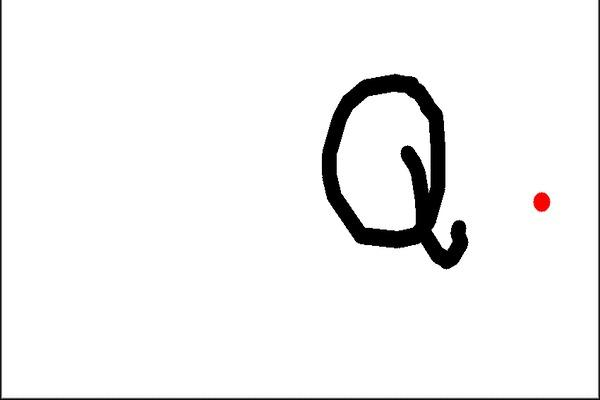Q: (311, 65, 483, 273)
